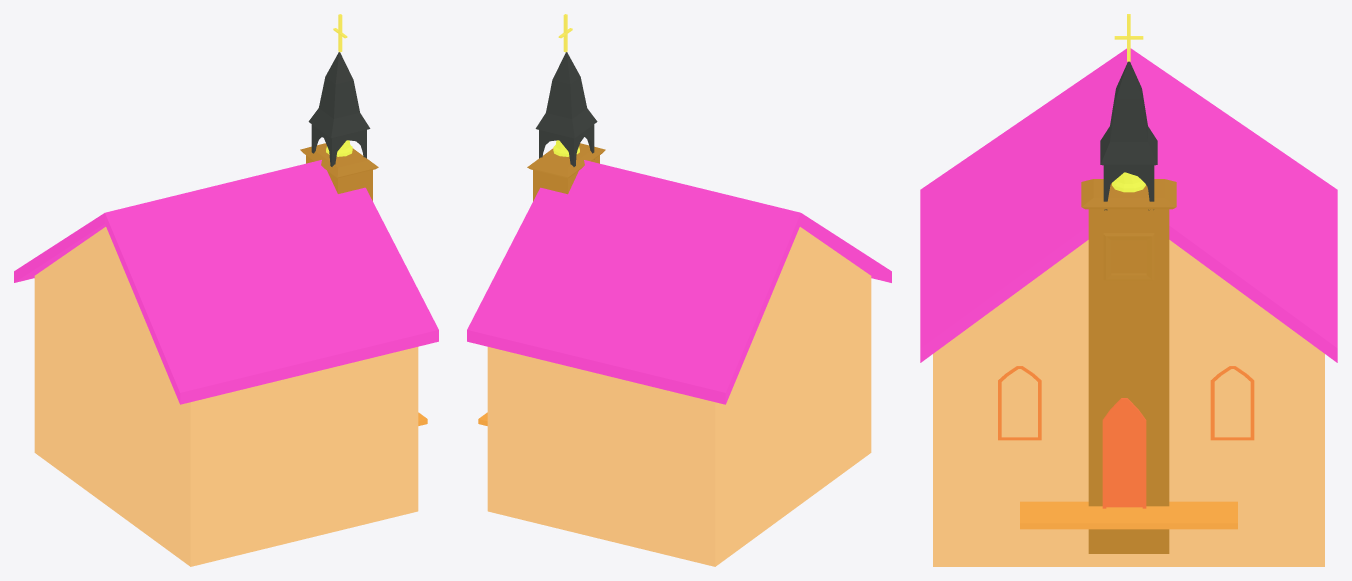
The model's file is eglise.glb.
The picture shows the model from 3 angles, left to right: view 1: azimuth 30°, elevation 25°; view 2: azimuth 150°, elevation 25°; view 3: azimuth 270°, elevation 25°; orthographic projection. The views are drawn at different scales.
Visible parts, largest first — view 1: house, roof, haut_eglise, pilier; view 2: house, roof, haut_eglise, pilier; view 3: house, roof, pilier, stair, haut_eglise, porte eglise, fenetre_2, fenetre_1.
Part boxes in pixels (x1=…): house: x1=34, y1=227, x2=418, y2=566; roof: x1=14, y1=160, x2=438, y2=404; haut_eglise: x1=308, y1=52, x2=370, y2=166; pilier: x1=300, y1=143, x2=378, y2=200; house: x1=487, y1=227, x2=871, y2=566; roof: x1=467, y1=160, x2=891, y2=404; haut_eglise: x1=535, y1=52, x2=597, y2=166; pilier: x1=527, y1=143, x2=605, y2=201; house: x1=933, y1=240, x2=1324, y2=566; roof: x1=920, y1=48, x2=1337, y2=362; pilier: x1=1081, y1=179, x2=1176, y2=553; stair: x1=1020, y1=501, x2=1237, y2=529; haut_eglise: x1=1100, y1=61, x2=1157, y2=210; porte eglise: x1=1102, y1=398, x2=1146, y2=508; fenetre_2: x1=1210, y1=366, x2=1254, y2=440; fenetre_1: x1=998, y1=366, x2=1041, y2=440.
Bounding box in the file's own units: 16.4 × 23.97 × 16.43.
